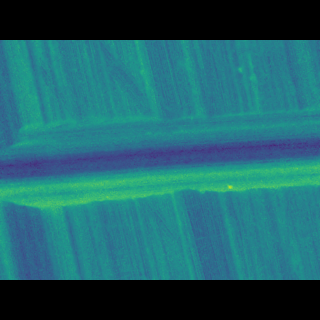Loch: (0, 118, 320, 198)
